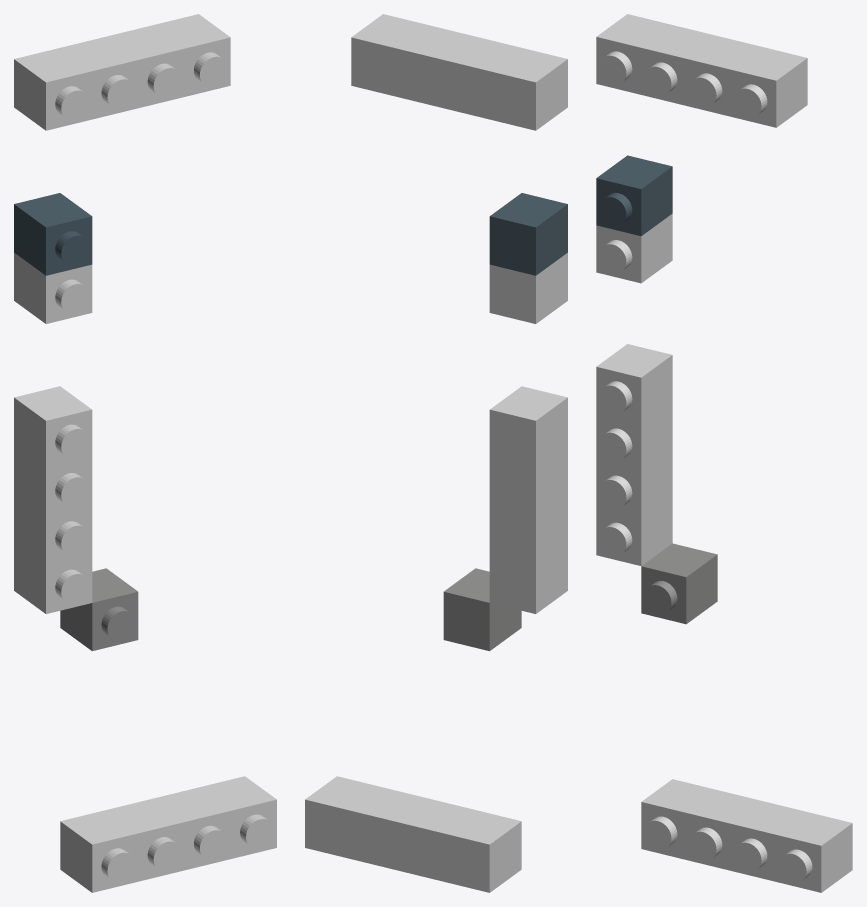
The model's file is current.glb.
The picture shows the model from 3 angles, left to right: view 1: azimuth 30°, elevation 25°; view 2: azimuth 150°, elevation 25°; view 3: azimuth 330°, elevation 25°; orthographic projection. The views are drawn at different scales.
Visible parts, largest first — view 1: world; view 2: world; view 3: world.
Boxes of the visible parts, x1=… form: world: x1=14, y1=14, x2=276, y2=892; world: x1=305, y1=14, x2=567, y2=892; world: x1=596, y1=14, x2=852, y2=892.
Bounding box in the file's own units: 40 × 136 × 11.4.
